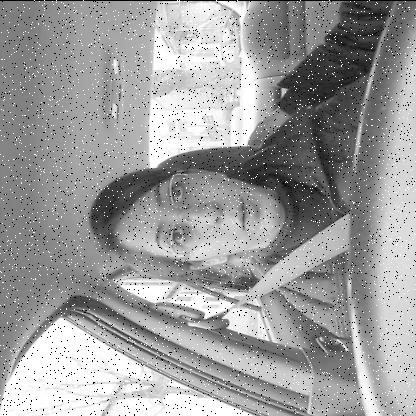seatbelt: (70, 155, 344, 291)
